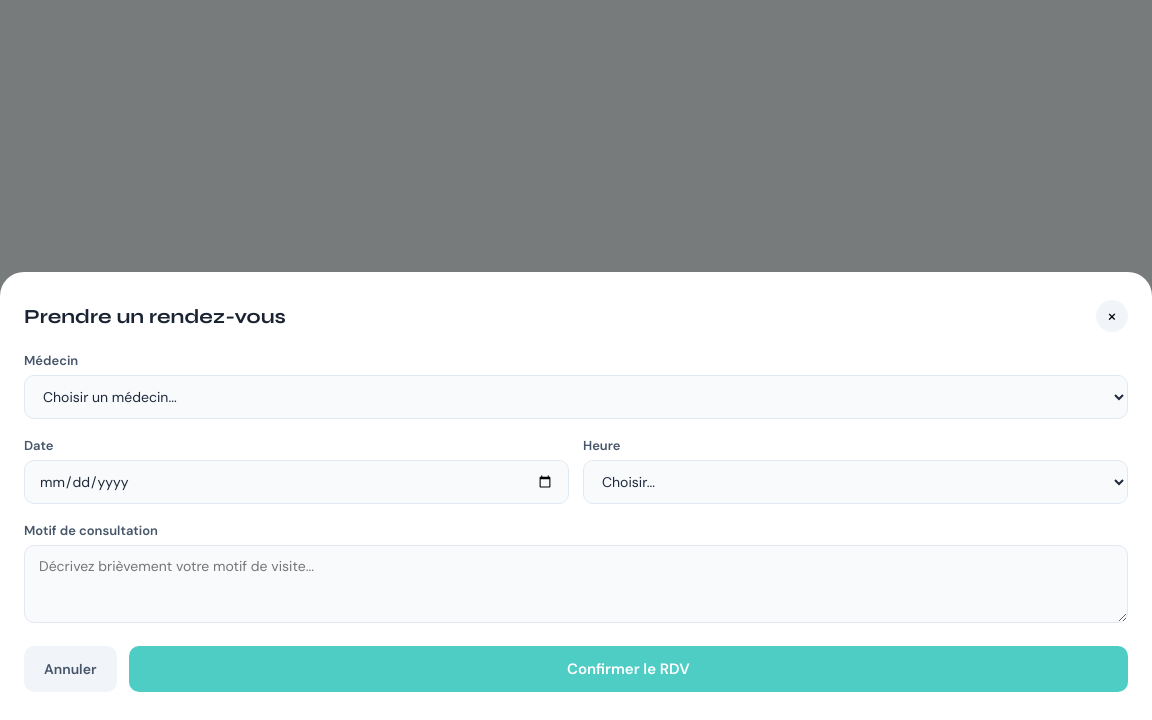
shows error on submission failure
Select "Dr. Jean Martin - cardiologie" in the dropdown showing "Choisir un médecin..." below "Médecin" at [576, 397], box [24, 375, 1128, 419]
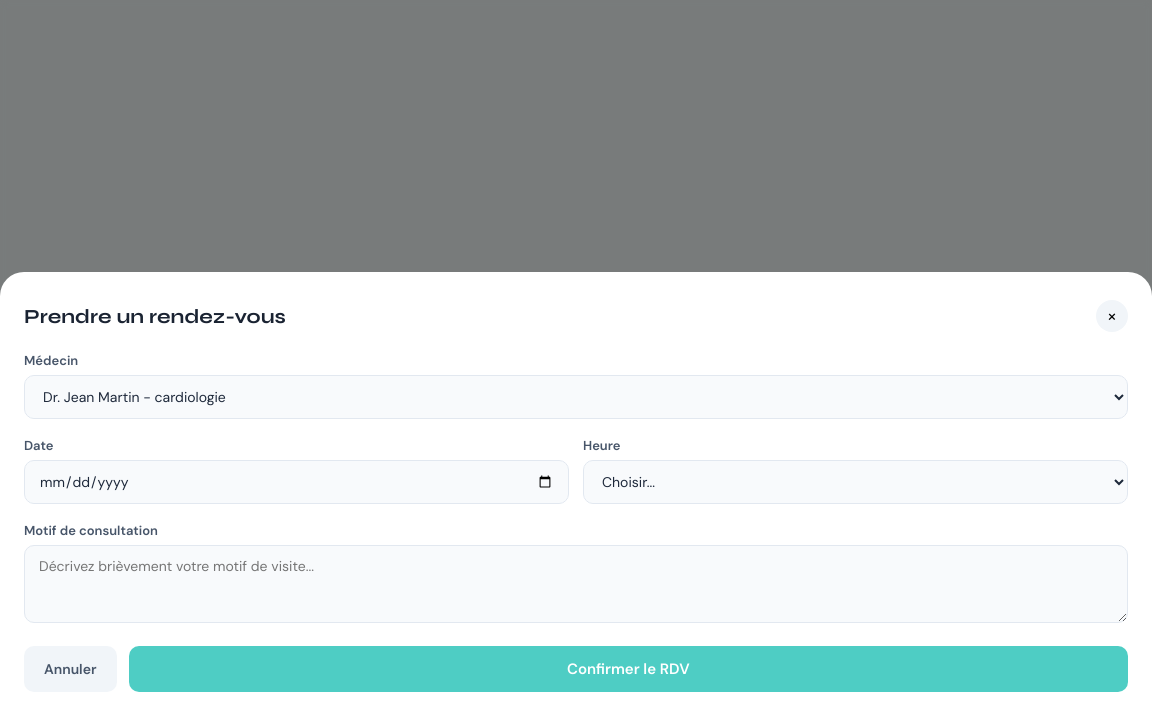
Type "2026-06-20" into the date field.
click(296, 482); type("2026-06-20")  # box [24, 460, 569, 504]
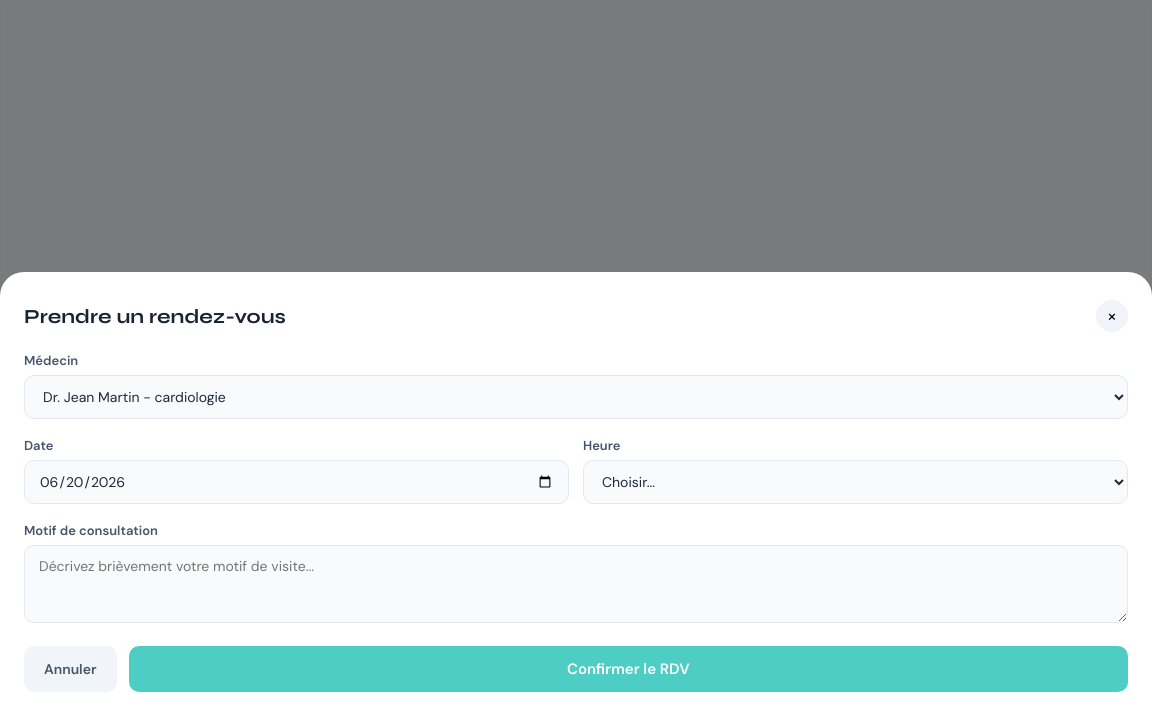
Select "09:00" in the dropdown showing "Choisir..." below "Heure" at [856, 482], box [583, 460, 1128, 504]
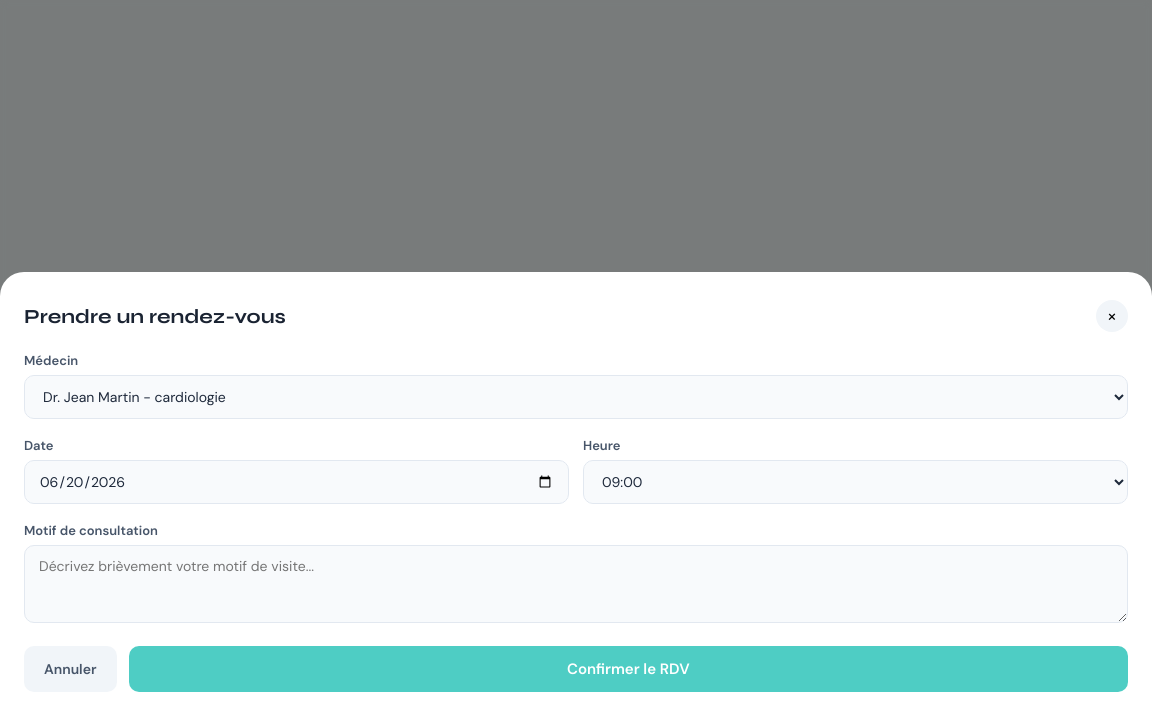
Click the button "Confirmer le RDV".
click(628, 669)  # box [128, 646, 1128, 692]
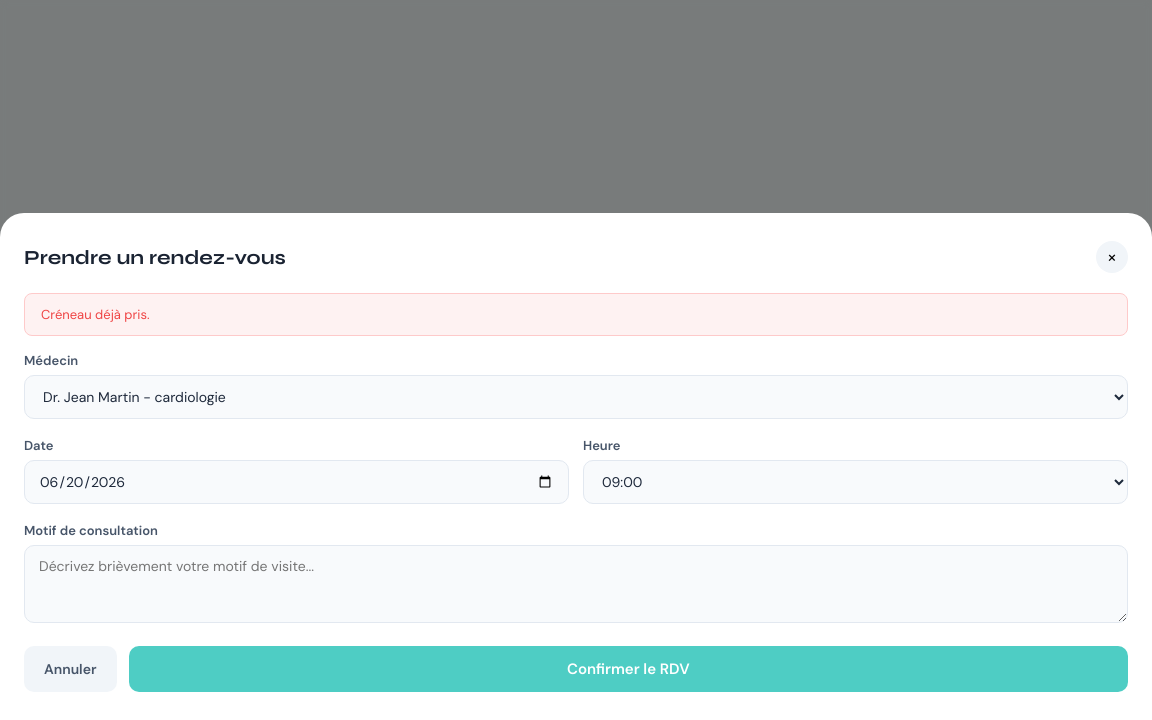
Now the text "Créneau déjà pris." is shown, box [24, 293, 1128, 336]
